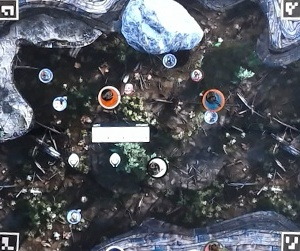light_blue_orange: (203, 89, 226, 112)
orange: (98, 86, 121, 109)
white: (147, 159, 170, 182)
